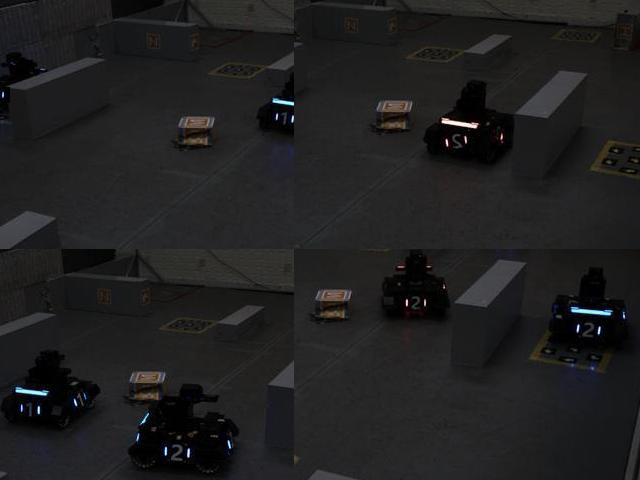armor: (160, 437, 193, 466), (568, 318, 605, 343), (12, 397, 46, 423), (442, 129, 471, 154), (400, 292, 430, 314), (492, 123, 512, 145), (270, 110, 293, 128), (0, 87, 11, 106)
